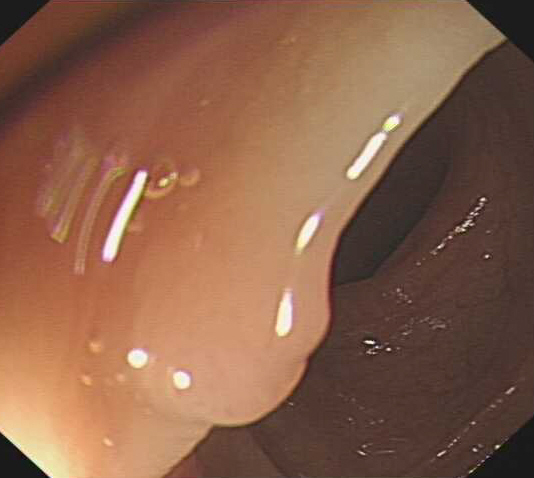others: (128, 219, 334, 432)
